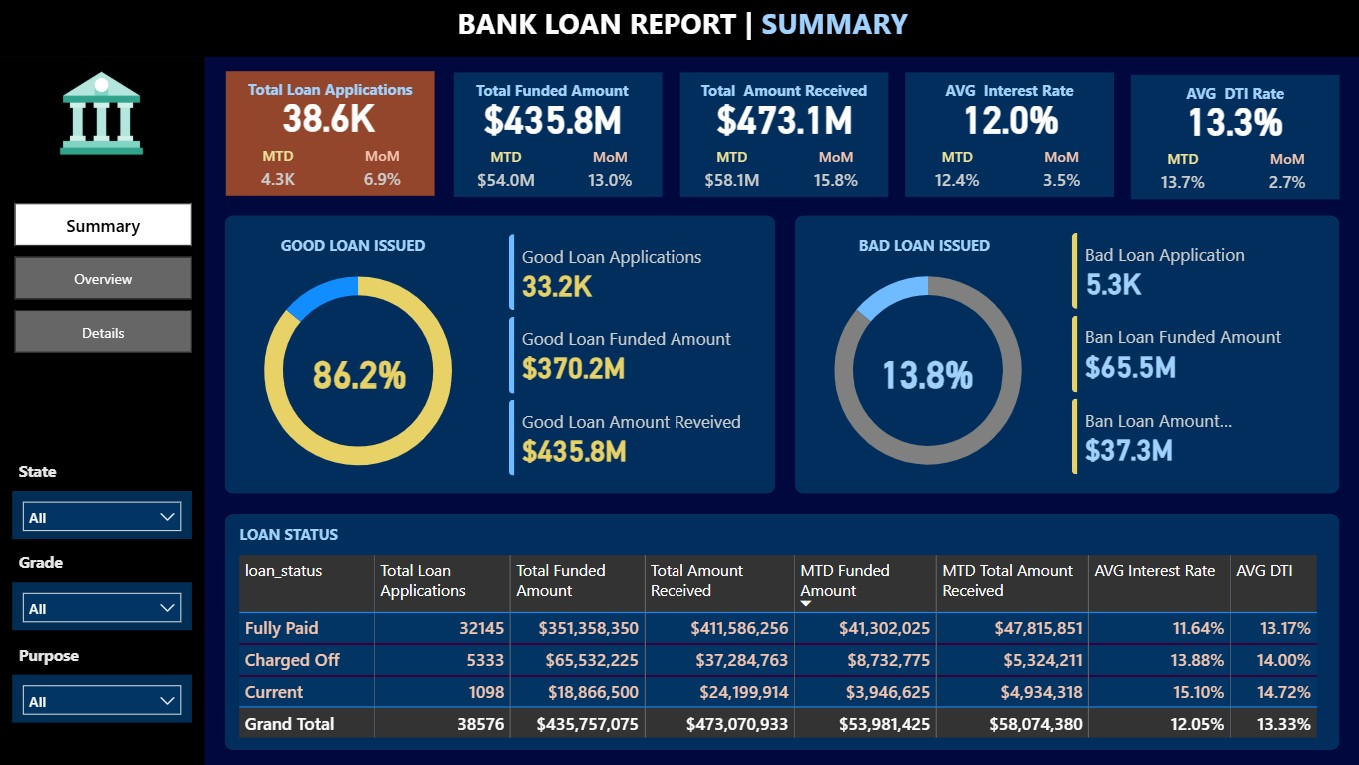

The page's visual inventory and layout, read from the dashboard file:
{"tool":"powerbi","page":{"name":"Summary","canvas":[1280,720],"ordinal":0},"visuals":[{"type":"shape","box":[0,55.2,192.5,664.7],"z":0},{"type":"shape","box":[212.3,68.9,195.5,116.9],"z":0,"group":"g1"},{"type":"shape","box":[426.2,69.3,195.5,116.9],"z":0,"group":"g2"},{"type":"shape","box":[638.1,69.3,195.5,116.9],"z":0,"group":"g3"},{"type":"shape","box":[849.4,69.3,195.5,116.9],"z":0,"group":"g4"},{"type":"shape","box":[1060.7,71.5,195.5,116.9],"z":0,"group":"g5"},{"type":"card","fields":{"Values":["bank_loan_data.Total Loan Applications"]},"box":[211.2,79.8,194.4,58.4],"z":1000,"group":"g1"},{"type":"card","fields":{"Values":["bank_loan_data.AVG DTI"]},"box":[1062.5,82.7,190,58.9],"z":1000,"group":"g5"},{"type":"card","fields":{"Values":["bank_loan_data.Total Funded Amount"]},"box":[428.9,83,178.9,56.7],"z":1000,"group":"g2"},{"type":"card","fields":{"Values":["bank_loan_data.Total Amount Received"]},"box":[640.1,83,192.2,56.7],"z":1000,"group":"g3"},{"type":"card","fields":{"Values":["bank_loan_data.AVG Interest Rate"]},"box":[853.7,83,187.8,56.7],"z":1000,"group":"g4"},{"type":"shape","box":[211.3,482.1,1045.1,221.4],"z":1000},{"type":"textbox","box":[212.3,71.1,195.5,33.7],"z":2000,"group":"g1"},{"type":"textbox","box":[638.1,71.5,195.5,33.7],"z":2000,"group":"g3"},{"type":"textbox","box":[849.4,71.5,195.5,33.7],"z":2000,"group":"g4"},{"type":"textbox","box":[428.9,71.9,177.8,33.3],"z":2000,"group":"g2"},{"type":"textbox","box":[1060.7,73.7,195.5,33.7],"z":2000,"group":"g5"},{"type":"shape","box":[211.1,203.3,516.7,260],"z":2000},{"type":"shape","box":[0,0,1280.6,55],"z":3000},{"type":"card","title":"MTD","fields":{"Values":["bank_loan_data.MTD Loan Applications"]},"box":[212.1,138.9,97.8,42.7],"z":3000,"group":"g1"},{"type":"card","title":"MTD","fields":{"Values":["bank_loan_data.MTD Funded Amount"]},"box":[426,139.3,97.8,42.7],"z":3000,"group":"g2"},{"type":"card","title":"MTD","fields":{"Values":["bank_loan_data.MTD Total Amount Received"]},"box":[637.9,139.3,97.8,42.7],"z":3000,"group":"g3"},{"type":"card","title":"MTD","fields":{"Values":["bank_loan_data.MTD AVG Interest Rate"]},"box":[849.2,139.3,97.8,42.7],"z":3000,"group":"g4"},{"type":"card","title":"MTD","fields":{"Values":["bank_loan_data.MTD AVG DTI"]},"box":[1060.5,141.5,97.8,42.7],"z":3000,"group":"g5"},{"type":"textbox","box":[411.9,0,456.8,55.2],"z":4000},{"type":"card","title":"MoM","fields":{"Values":["bank_loan_data.MoM Loan Applications"]},"box":[309.8,138.9,97.8,42.7],"z":4000,"group":"g1"},{"type":"card","title":"MoM","fields":{"Values":["bank_loan_data.MoM Funded Amount"]},"box":[523.8,139.3,97.8,42.7],"z":4000,"group":"g2"},{"type":"card","title":"MoM","fields":{"Values":["bank_loan_data.MoM Total Amount Received"]},"box":[735.7,139.3,97.8,42.7],"z":4000,"group":"g3"},{"type":"card","title":"MoM","fields":{"Values":["bank_loan_data.MoM AVG Interest Rate"]},"box":[947,139.3,97.8,42.7],"z":4000,"group":"g4"},{"type":"card","title":"MoM","fields":{"Values":["bank_loan_data.MoM AVG DTI"]},"box":[1158.3,141.5,97.8,42.7],"z":4000,"group":"g5"},{"type":"group","id":"g1","title":"Group 1","box":[211.2,68.9,196.6,116.9],"z":5000},{"type":"group","id":"g2","title":"Group 1","box":[426,69.3,195.7,116.9],"z":6000},{"type":"group","id":"g3","title":"Group 1","box":[637.9,69.3,195.7,116.9],"z":7000},{"type":"group","id":"g4","title":"Group 1","box":[849.2,69.3,195.7,116.9],"z":8000},{"type":"group","id":"g5","title":"Group 1","box":[1060.5,71.5,195.7,116.9],"z":9000},{"type":"shape","box":[746.7,203.3,510,260],"z":10000},{"type":"donutChart","fields":{"Category":["bank_loan_data.Good vs Bad Loan"],"Y":["bank_loan_data.Total Loan Applications"]},"box":[211.1,233.3,250,230],"z":11000},{"type":"card","fields":{"Values":["bank_loan_data.Good Loan %"]},"box":[242.2,320,190,58.9],"z":12000},{"type":"textbox","box":[233.3,216.7,195.6,33.3],"z":13000},{"type":"cardVisual","fields":{"Data":["bank_loan_data.Good Loan Applications","bank_loan_data.Good Loan Funded Amount","bank_loan_data.Good Loan Amount Reveived"]},"box":[460.7,204.5,267.5,259.6],"z":14000},{"type":"donutChart","fields":{"Category":["bank_loan_data.Good vs Bad Loan"],"Y":["bank_loan_data.Total Loan Applications"]},"box":[746.2,233.7,249.5,229.2],"z":15000},{"type":"card","fields":{"Values":["bank_loan_data.Bad Loan %"]},"box":[774.3,320.3,191,58.4],"z":16000},{"type":"textbox","box":[769.8,216.9,195.5,32.6],"z":17000},{"type":"cardVisual","fields":{"Data":["bank_loan_data.Bad Loan Application","bank_loan_data.Ban Loan Funded Amount","bank_loan_data.Ban Loan Amount Reveived"]},"box":[988.9,203.4,246.1,259.6],"z":18000},{"type":"tableEx","fields":{"Values":["bank_loan_data.loan_status","bank_loan_data.Total Loan Applications","bank_loan_data.Total Funded Amount","bank_loan_data.Total Amount Received","bank_loan_data.MTD Funded Amount","bank_loan_data.MTD Total Amount Received","bank_loan_data.AVG Interest Rate","bank_loan_data.AVG DTI"]},"box":[219.1,515.8,1030.5,184.3],"z":19000},{"type":"textbox","box":[211.3,486.6,120.2,32.6],"z":20000},{"type":"group","id":"g6","title":"Group 2","box":[12.8,427,168.1,78.3],"z":21000},{"type":"slicer","fields":{"Values":["bank_loan_data.address_state"]},"box":[12.8,460.4,168.1,44.9],"z":21000,"group":"g6"},{"type":"slicer","fields":{"Values":["bank_loan_data.grade"]},"box":[12.8,545.6,168.1,44.9],"z":21000,"group":"g7"},{"type":"slicer","fields":{"Values":["bank_loan_data.purpose"]},"box":[12.8,632.4,168.1,44.9],"z":21000,"group":"g8"},{"type":"group","id":"g7","title":"Group 2","box":[12.8,512.2,168.1,78.3],"z":22000},{"type":"textbox","box":[14.1,427,166.8,33.4],"z":23000,"group":"g6"},{"type":"textbox","box":[14.1,512.2,166.8,33.4],"z":23000,"group":"g7"},{"type":"group","id":"g8","title":"Group 2","box":[12.8,599,168.1,78.3],"z":23000},{"type":"textbox","box":[14.1,599,166.8,33.4],"z":23000,"group":"g8"},{"type":"pageNavigator","box":[14.6,192,166.3,140.5],"z":24000},{"type":"image","box":[39.3,56.1,113.5,103.4],"z":25000}]}

Visuals, with their boxes in screenshot pixels (x1, y1, x2, y2), scaled from the page's 1280x720 canvas onto the 1359x765 screenshot:
shape: 0/59/204/764
shape: 225/73/433/197
shape: 453/74/660/198
shape: 677/74/885/198
shape: 902/74/1109/198
shape: 1126/76/1334/200
card - bank_loan_data.Total Loan Applications: 224/85/431/147
card - bank_loan_data.AVG DTI: 1128/88/1330/150
card - bank_loan_data.Total Funded Amount: 455/88/645/148
card - bank_loan_data.Total Amount Received: 680/88/884/148
card - bank_loan_data.AVG Interest Rate: 906/88/1106/148
shape: 224/512/1334/747
textbox: 225/76/433/111
textbox: 677/76/885/112
textbox: 902/76/1109/112
textbox: 455/76/644/112
textbox: 1126/78/1334/114
shape: 224/216/773/492
shape: 0/0/1358/58
"MTD" card: 225/148/329/193
"MTD" card: 452/148/556/193
"MTD" card: 677/148/781/193
"MTD" card: 902/148/1005/193
"MTD" card: 1126/150/1230/196
textbox: 437/0/922/59
"MoM" card: 329/148/433/193
"MoM" card: 556/148/660/193
"MoM" card: 781/148/885/193
"MoM" card: 1005/148/1109/193
"MoM" card: 1230/150/1334/196
"Group 1" group: 224/73/433/197
"Group 1" group: 452/74/660/198
"Group 1" group: 677/74/885/198
"Group 1" group: 902/74/1109/198
"Group 1" group: 1126/76/1334/200
shape: 793/216/1334/492
donutChart - bank_loan_data.Good vs Bad Loan x bank_loan_data.Total Loan Applications: 224/248/490/492
card - bank_loan_data.Good Loan %: 257/340/459/403
textbox: 248/230/455/266
cardVisual - bank_loan_data.Good Loan Applications x bank_loan_data.Good Loan Funded Amount: 489/217/773/493
donutChart - bank_loan_data.Good vs Bad Loan x bank_loan_data.Total Loan Applications: 792/248/1057/492
card - bank_loan_data.Bad Loan %: 822/340/1025/402
textbox: 817/230/1025/265
cardVisual - bank_loan_data.Bad Loan Application x bank_loan_data.Ban Loan Funded Amount: 1050/216/1311/492
tableEx - bank_loan_data.loan_status x bank_loan_data.Total Loan Applications: 233/548/1327/744
textbox: 224/517/352/552
"Group 2" group: 14/454/192/537
slicer - bank_loan_data.address_state: 14/489/192/537
slicer - bank_loan_data.grade: 14/580/192/627
slicer - bank_loan_data.purpose: 14/672/192/720
"Group 2" group: 14/544/192/627
textbox: 15/454/192/489
textbox: 15/544/192/580
"Group 2" group: 14/636/192/720
textbox: 15/636/192/672
pageNavigator: 16/204/192/353
image: 42/60/162/169
